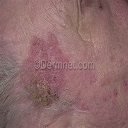Bowen: (31, 74, 60, 108)
